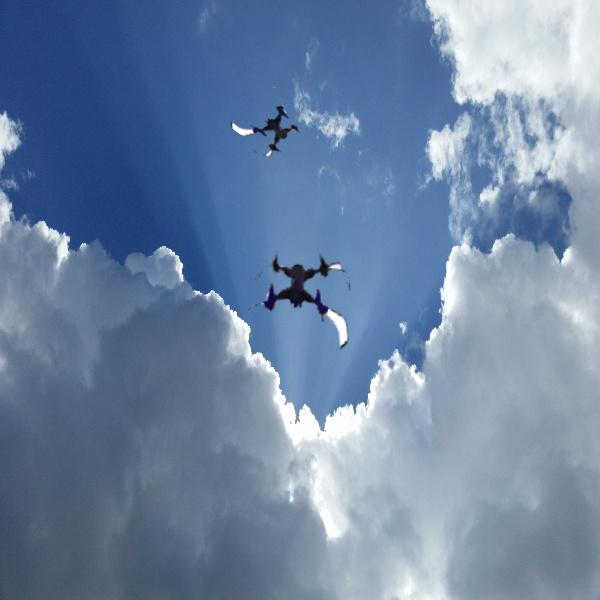drone: (238, 242, 359, 363), (235, 87, 308, 160)
